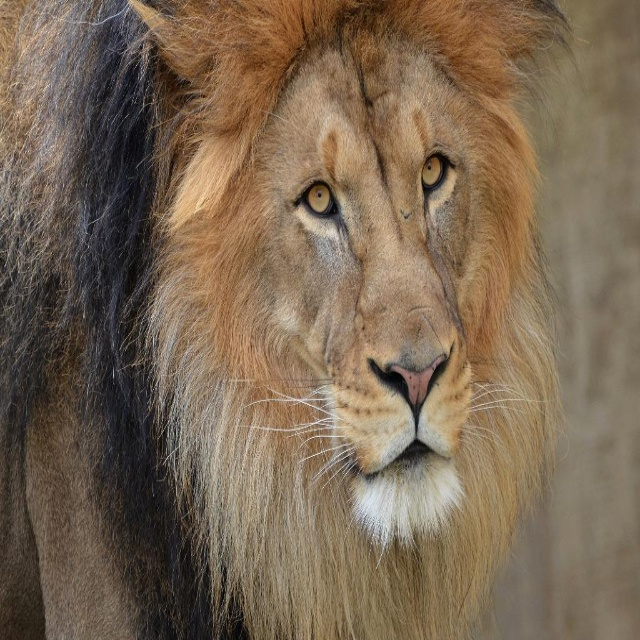Lion: (0, 0, 572, 639)
